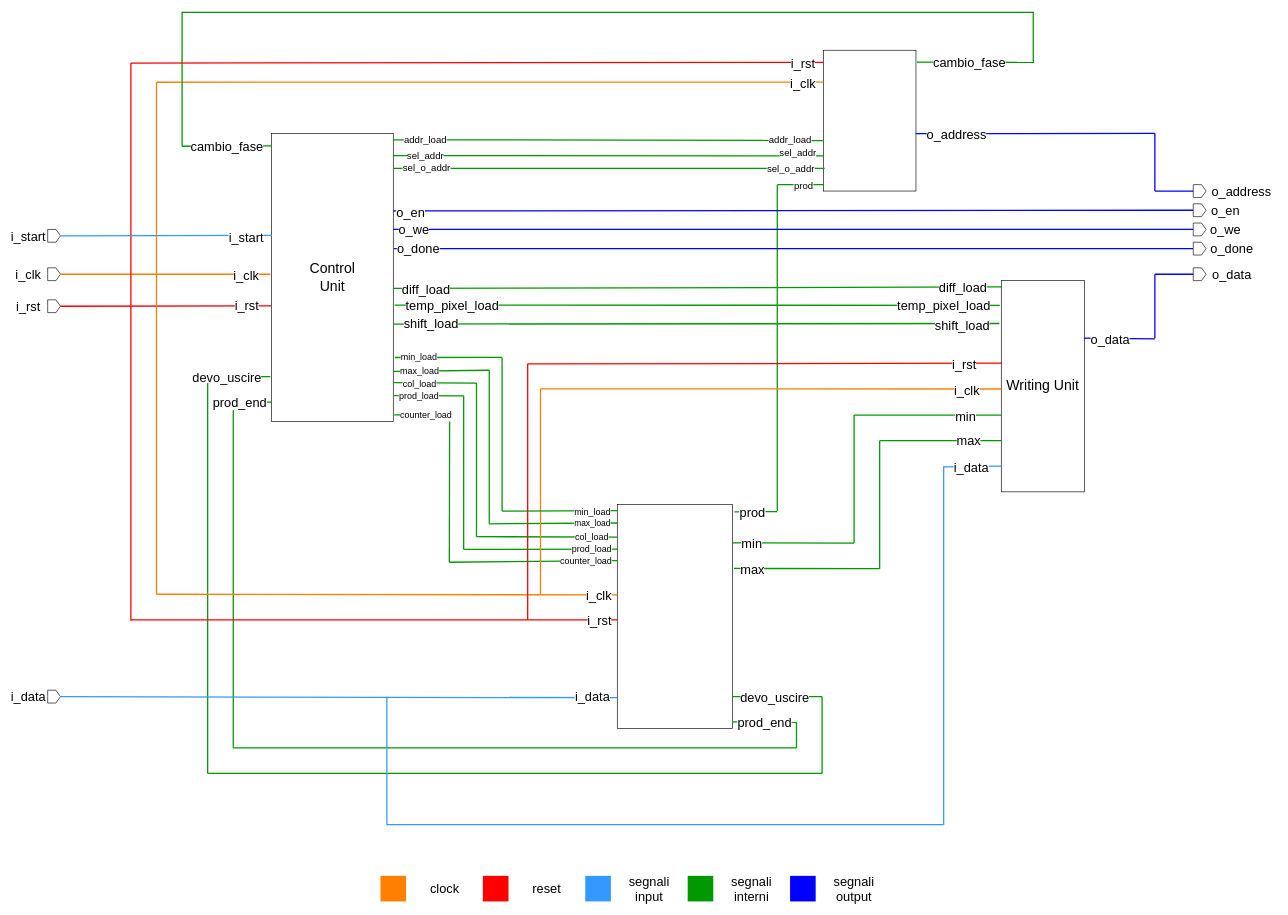
Some shapes in this 1288 by 915 pixel diagram are drawn without their labels. Each missing label, with the centre of its shape:
Address Unit: the point at 869,120
Reading Unit: the point at 674,616
